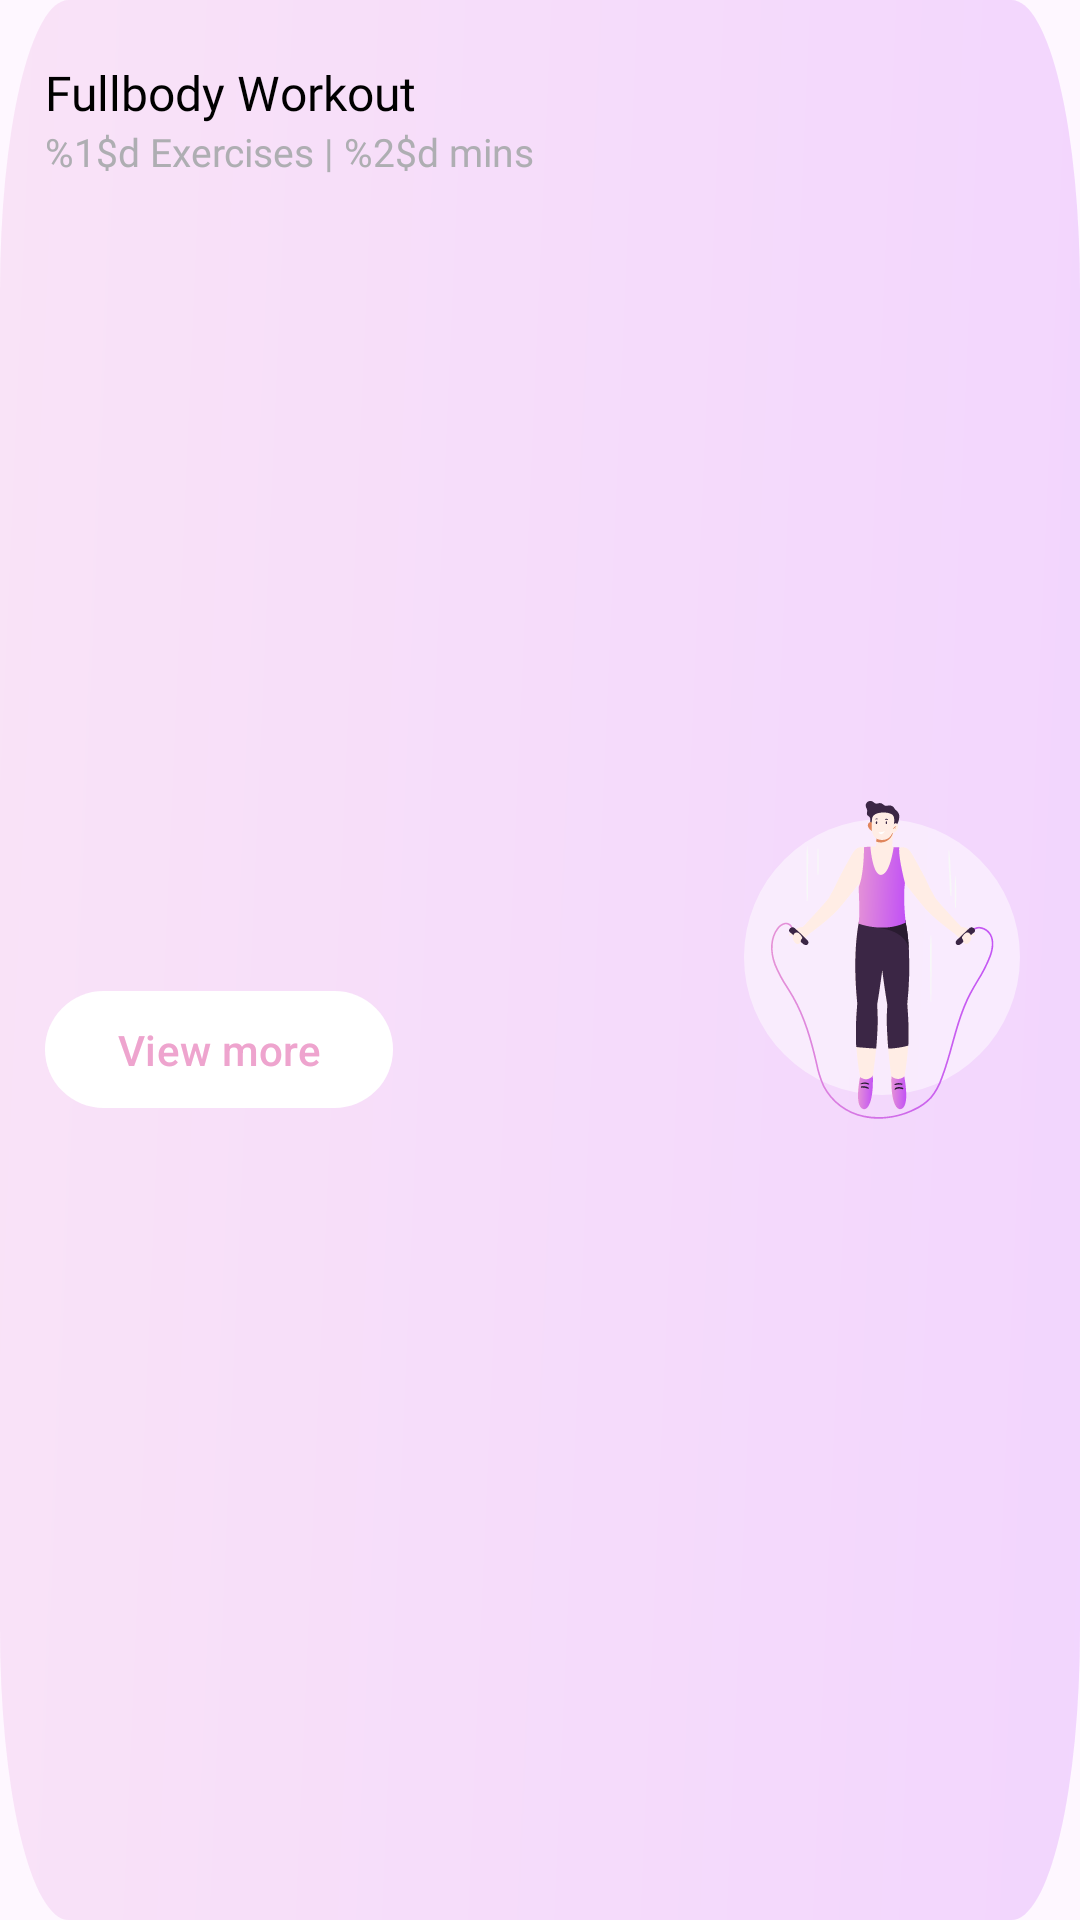

Icons on this 1080px×1920px Android screen, each with its box as region(x1, y1, x2, y2):
workout fullbody: region(771, 801, 993, 1119)
